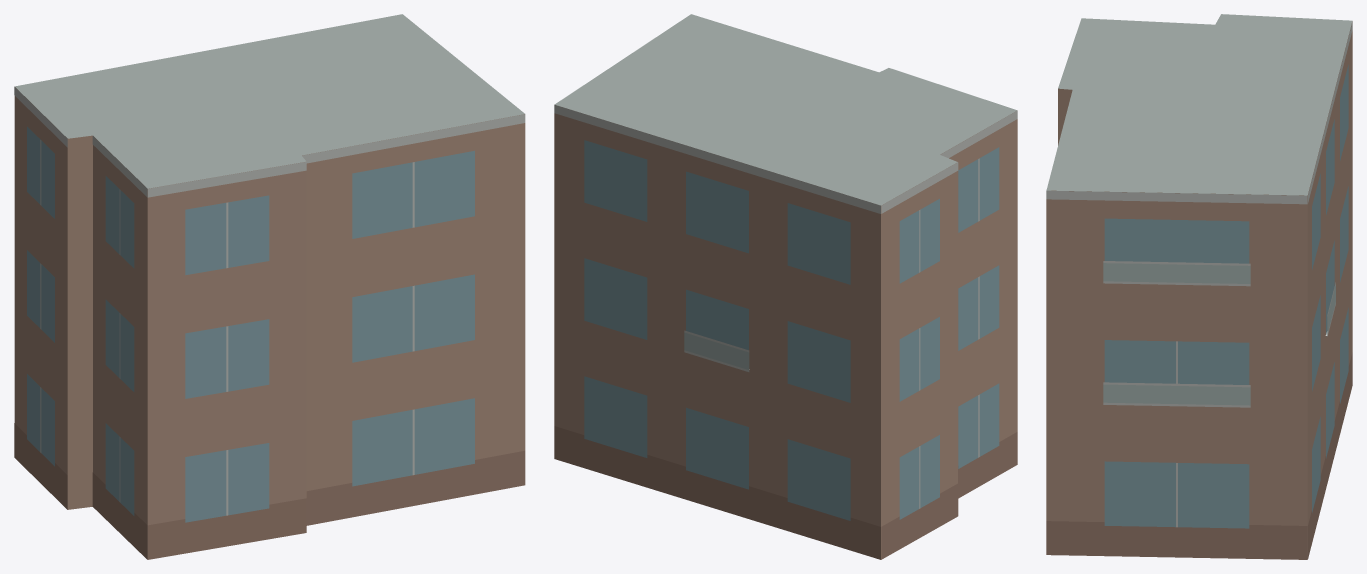
Rendered from survey-upis-32509073.glb.
The picture shows the model from 3 angles, left to right: view 1: azimuth 30°, elevation 25°; view 2: azimuth 150°, elevation 25°; view 3: azimuth 270°, elevation 25°; orthographic projection. The views are drawn at different scales.
Parts seen in each view (by area): view 1: survey-upis-32509073.tmp; view 2: survey-upis-32509073.tmp; view 3: survey-upis-32509073.tmp.
Boxes of the visible parts, x1,y1,x2,y2 form: survey-upis-32509073.tmp: (14,14,525,559); survey-upis-32509073.tmp: (554,14,1017,559); survey-upis-32509073.tmp: (1046,14,1352,559).
Bounding box in the file's own units: 10.8 × 10.1 × 7.7.
